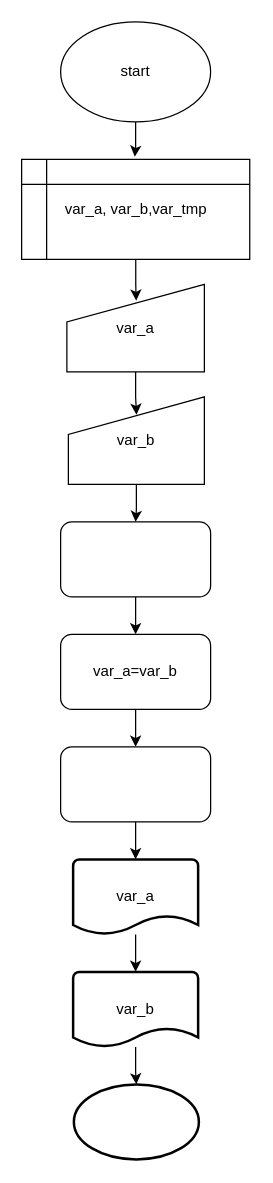
This 273x1183 diagram has some shape labels left out. Here are the shapes that lost their labels. From the top down, the box of each, then its label:
(59, 521, 211, 597): var_tmp=var_a
(59, 746, 211, 822): var_b=var_tmp
(72, 1082, 200, 1160): end
